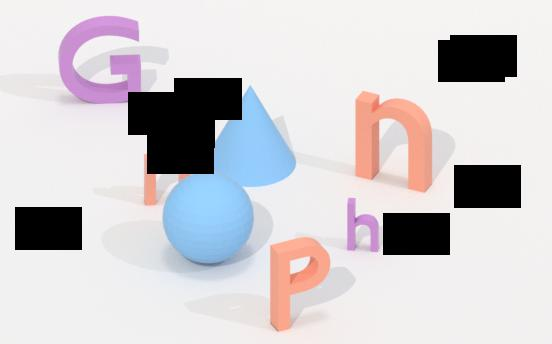G-hoa: (51, 16, 150, 107)
cau: (155, 172, 259, 263)
h: (344, 194, 386, 255)
n: (345, 87, 440, 193), (141, 148, 197, 208)
non: (199, 90, 302, 185)
p: (268, 238, 342, 335)
